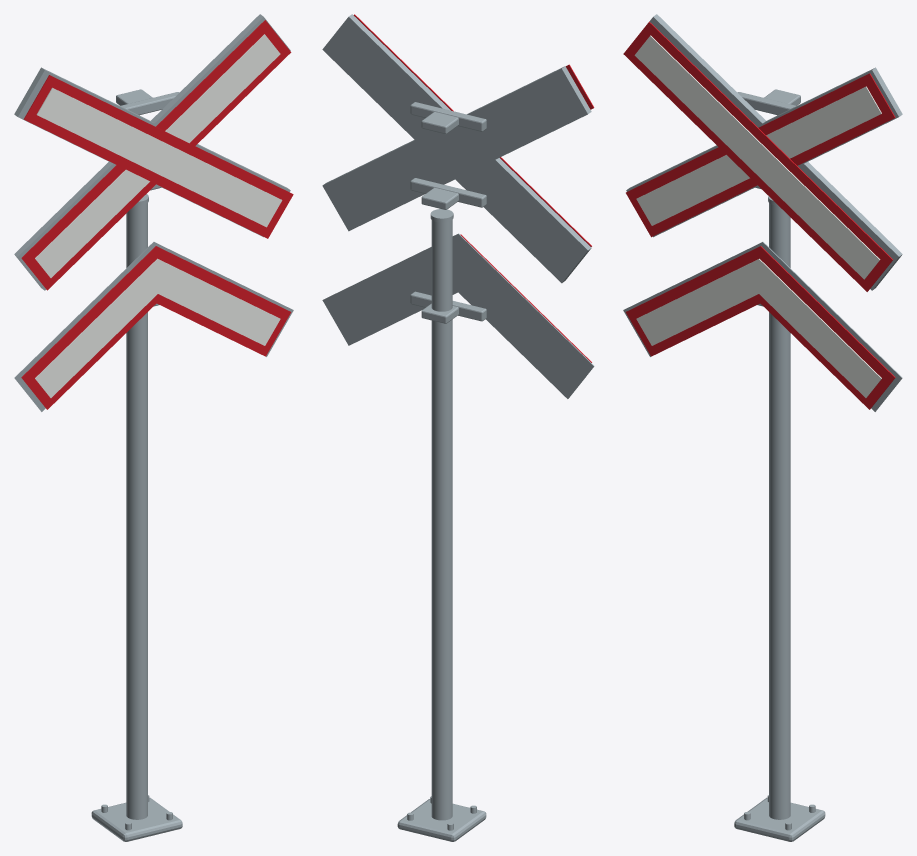
File: DS_Sign_MultiTrack.glb
3 renders of one model, left to right at view 1: azimuth 30°, elevation 25°; view 2: azimuth 150°, elevation 25°; view 3: azimuth 330°, elevation 25°, orthographic. The views are drawn at different scales.
Parts seen in each view (by area): view 1: Post.003, Face_Field_V, Face_Field_1.001, Face_Field_0.001, Face_Border_1.001, Face_Border_V, Face_Border_0.001, Plate_Back.004, BasePlate.003, Plate_Back.006, Plate_Back.005, RearRail.007; view 2: Plate_Back.004, Plate_Back.005, Plate_Back.006, Post.003, BasePlate.003, RearRail.006, RearRail.007, RearRail.008, PostClamp.006, PostClamp.007, Face_Border_0.001; view 3: Post.003, Face_Field_1.001, Face_Field_V, Face_Field_0.001, Face_Border_V, Face_Border_1.001, Face_Border_0.001, Plate_Back.005, BasePlate.003, Plate_Back.006, Plate_Back.004, RearRail.007.
Part boxes in pixels (x1,y1,x2,y2): Post.003: [126, 203, 147, 819]; Face_Field_V: [35, 258, 280, 397]; Face_Field_1.001: [36, 87, 282, 227]; Face_Field_0.001: [35, 34, 280, 277]; Face_Border_1.001: [23, 75, 293, 238]; Face_Border_V: [21, 246, 291, 409]; Face_Border_0.001: [21, 20, 291, 290]; Plate_Back.004: [14, 14, 290, 290]; BasePlate.003: [91, 797, 182, 841]; Plate_Back.006: [14, 242, 293, 411]; Plate_Back.005: [14, 67, 290, 237]; RearRail.007: [120, 92, 179, 115]; Plate_Back.004: [322, 14, 591, 283]; Plate_Back.005: [322, 66, 591, 231]; Plate_Back.006: [322, 233, 594, 398]; Post.003: [431, 220, 452, 820]; BasePlate.003: [397, 799, 486, 841]; RearRail.006: [410, 178, 486, 207]; RearRail.007: [410, 102, 486, 131]; RearRail.008: [410, 291, 486, 321]; PostClamp.006: [421, 187, 458, 209]; PostClamp.007: [421, 112, 458, 134]; Face_Border_0.001: [353, 14, 591, 246]; Post.003: [769, 203, 790, 819]; Face_Field_1.001: [634, 35, 880, 279]; Face_Field_V: [636, 258, 881, 397]; Face_Field_0.001: [636, 86, 881, 225]; Face_Border_V: [625, 246, 895, 409]; Face_Border_1.001: [623, 21, 892, 291]; Face_Border_0.001: [626, 73, 895, 237]; Plate_Back.005: [649, 14, 902, 290]; BasePlate.003: [734, 797, 825, 841]; Plate_Back.006: [623, 242, 902, 411]; Plate_Back.004: [626, 67, 902, 237]; RearRail.007: [737, 92, 796, 115].
Bounding box in the file's own units: 1.12 × 3.05 × 0.278.
